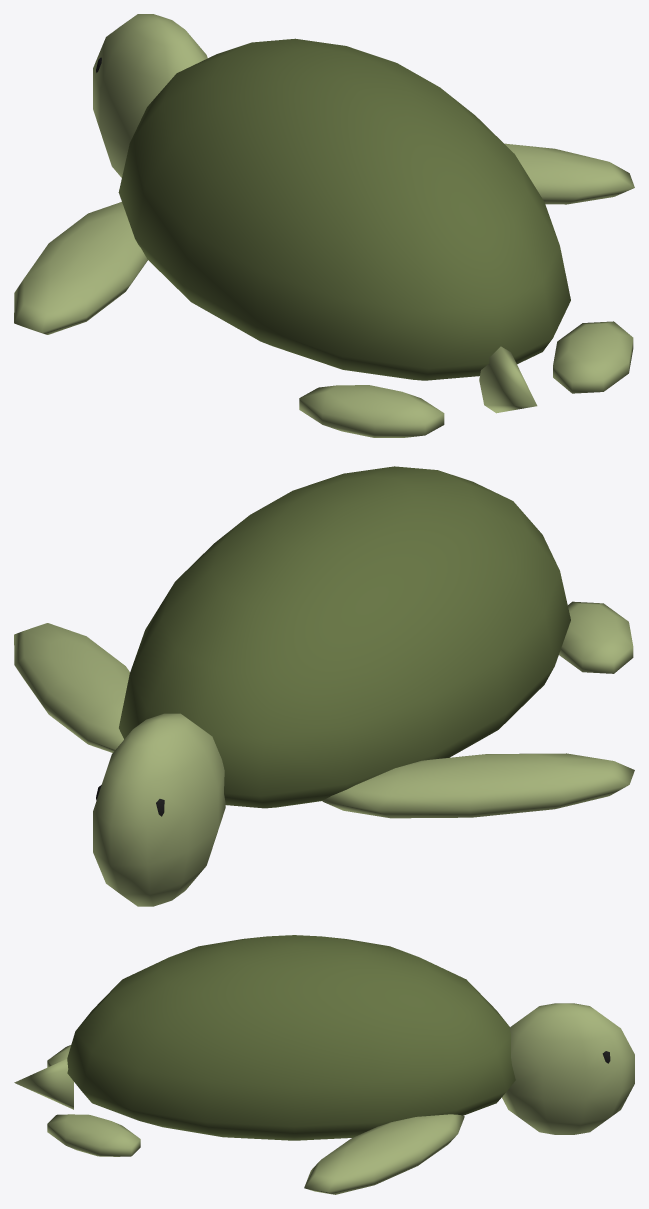
Rendered from sea-turtle.glb.
3 renders of one model, top to bottom at view 1: azimuth 30°, elevation 25°; view 2: azimuth 150°, elevation 25°; view 3: azimuth 270°, elevation 25°, orthographic. The views are drawn at different scales.
Visible parts, largest first — view 1: body; view 2: body; view 3: body.
Part boxes in pixels (bbox=[...]): body: bbox=[14, 14, 634, 437]; body: bbox=[14, 466, 634, 906]; body: bbox=[14, 935, 634, 1194].
Bounding box in the file's own units: 2 × 0.8 × 2.4.
